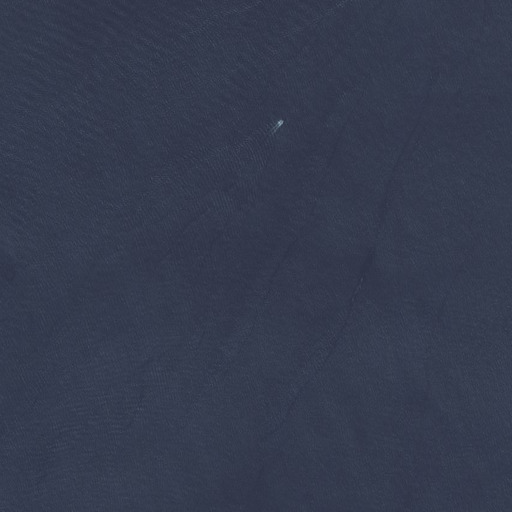ship: (277, 115, 285, 125)
